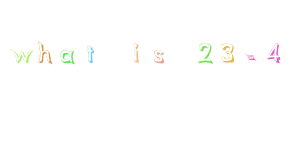-: (243, 50, 258, 62)
2: (196, 42, 213, 64)
3: (219, 42, 236, 63)
4: (266, 41, 282, 64)
a: (59, 49, 75, 64)
h: (37, 40, 54, 66)
i: (130, 41, 143, 65)
s: (152, 48, 166, 63)
t: (83, 43, 94, 63)
w: (12, 47, 32, 65)
